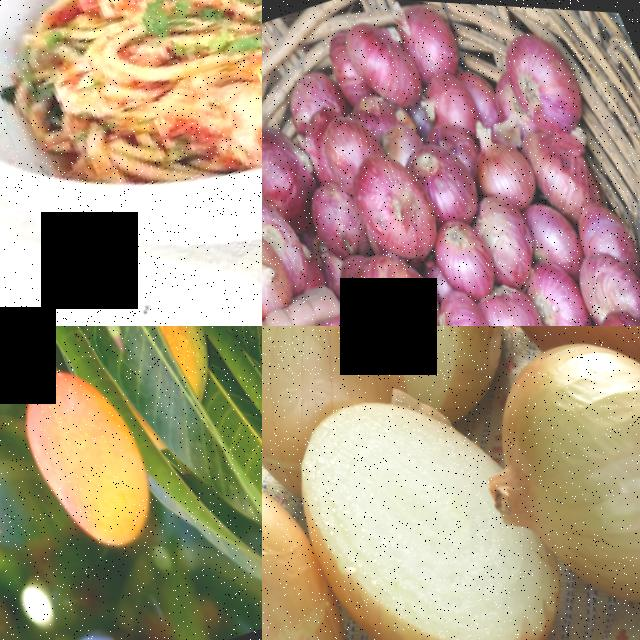mango: (0, 343, 168, 556), (108, 326, 226, 394)
onion: (277, 369, 574, 640), (463, 326, 640, 622), (262, 429, 394, 640), (316, 326, 531, 416), (262, 326, 407, 457), (334, 141, 442, 265), (491, 14, 597, 137), (339, 233, 446, 326), (337, 6, 427, 111), (462, 178, 542, 282), (399, 127, 483, 224), (561, 232, 640, 325), (262, 110, 322, 218), (423, 212, 498, 298), (511, 186, 583, 271), (468, 127, 543, 207), (515, 248, 591, 326), (392, 0, 465, 76), (470, 271, 542, 326), (262, 215, 294, 326), (422, 278, 495, 326)
